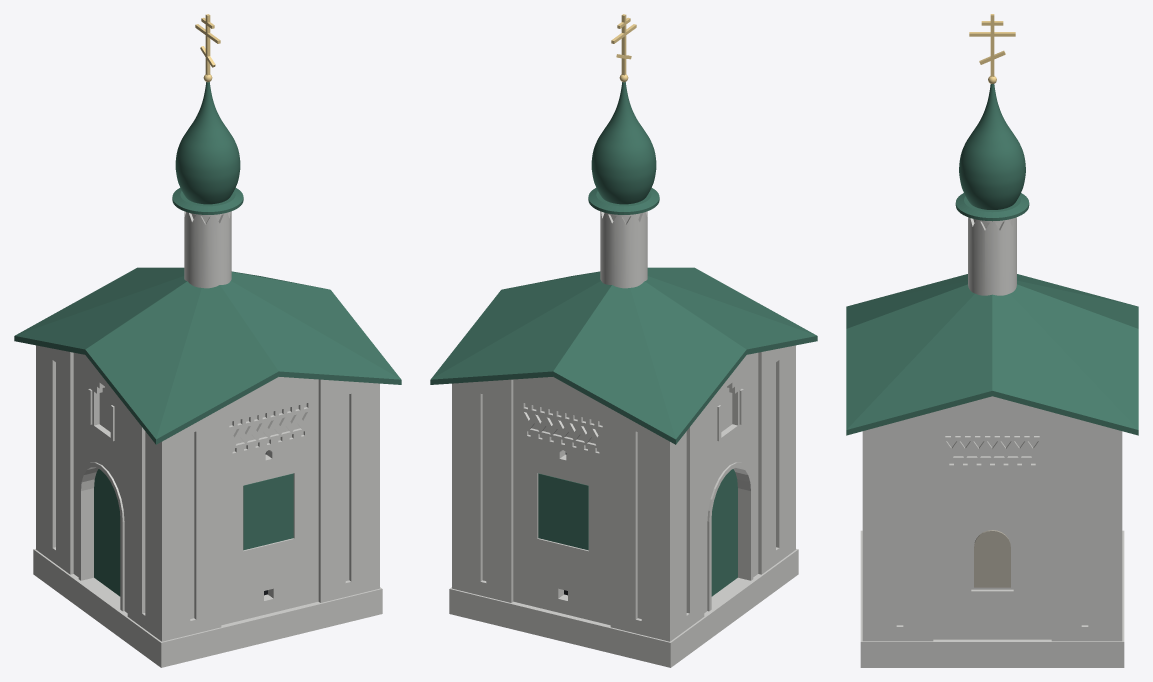
The model's file is SM_Chapel_Anastasia.glb.
The picture shows the model from 3 angles, left to right: view 1: azimuth 30°, elevation 25°; view 2: azimuth 150°, elevation 25°; view 3: azimuth 270°, elevation 25°; orthographic projection. The views are drawn at different scales.
Parts seen in each view (by area): view 1: SM_Chapel_Anastasia; view 2: SM_Chapel_Anastasia; view 3: SM_Chapel_Anastasia.
Part boxes in pixels (x1,y1,x2,y2): SM_Chapel_Anastasia: (14, 14, 401, 667); SM_Chapel_Anastasia: (430, 14, 817, 667); SM_Chapel_Anastasia: (846, 14, 1138, 667).
Bounding box in the file's own units: 4.3 × 9.7 × 4.3.
